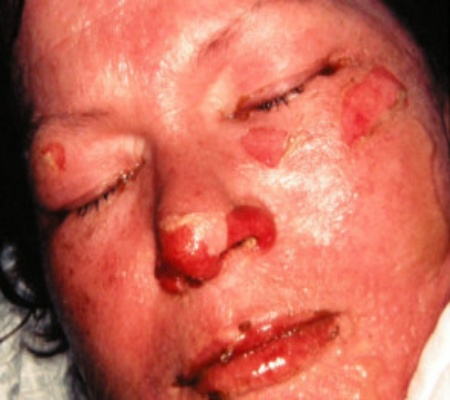SJS-TEN: (5, 0, 450, 400)
